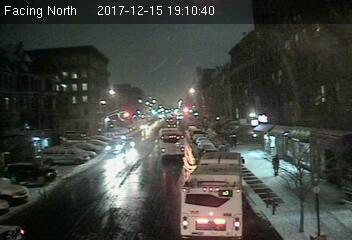bus: (180, 151, 242, 237), (159, 127, 185, 159)
car: (105, 141, 124, 153)
